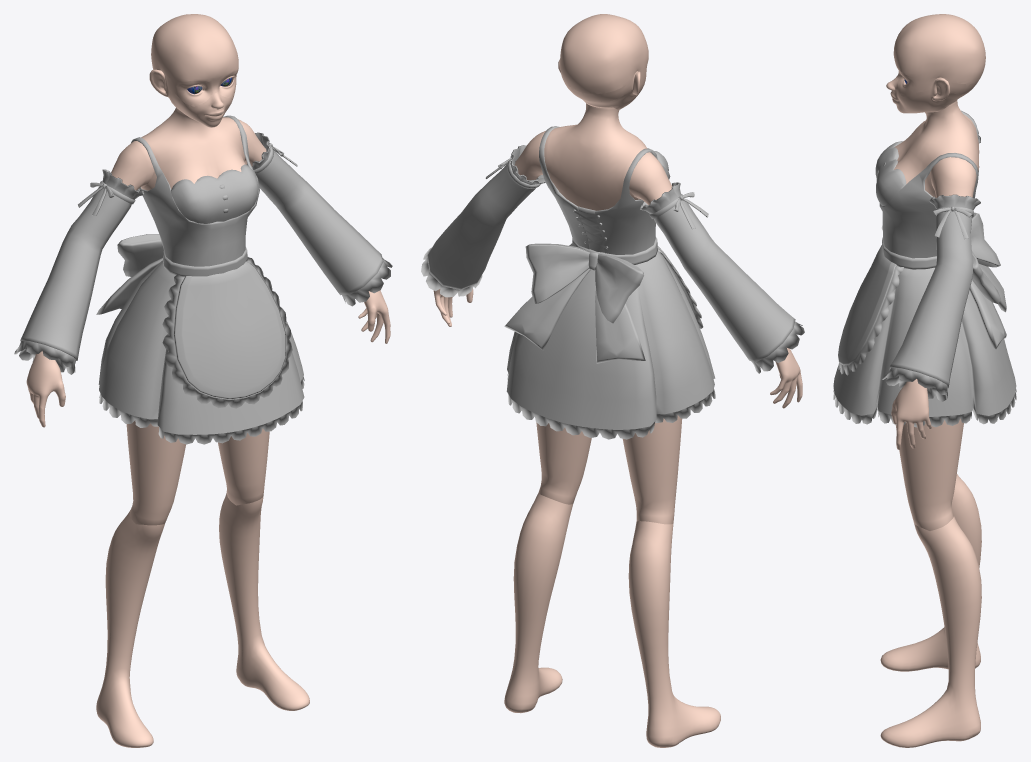
File: Doll_2.fbx
3 renders of one model, left to right at view 1: azimuth 30°, elevation 25°; view 2: azimuth 150°, elevation 25°; view 3: azimuth 270°, elevation 25°, orthographic. The views are drawn at different scales.
Parts seen in each view (by area): view 1: Clothes_60, Female_LegLowerRight, Female_LegLowerLeft, Female_Body, Female_LegUpperRight, Female_HeadD, Female_HeadD_CutTop, Female_LegUpperLeft, Female_HandRight, Female_ArmUpperRight, Female_HeadD_CutMiddle, Female_HeadD_CutBottom (+1 smaller); view 2: Clothes_60, Female_LegLowerRight, Female_LegLowerLeft, Female_Body, Female_LegUpperRight, Female_HeadD, Female_HeadD_CutTop, Female_LegUpperLeft, Female_ArmUpperRight, Female_HandRight, Female_ArmUpperLeft; view 3: Clothes_60, Female_LegLowerLeft, Female_LegUpperLeft, Female_HeadD, Female_Body, Female_LegLowerRight, Female_HeadD_CutTop, Female_HandLeft, Female_ArmUpperLeft, Female_HeadD_CutBottom, Female_HeadD_CutMiddle.
Boxes of the visible parts, <box> form: Clothes_60: <box>14,115,392,444</box>; Female_LegLowerRight: <box>96,510,164,747</box>; Female_LegLowerLeft: <box>219,493,309,710</box>; Female_Body: <box>141,91,245,190</box>; Female_LegUpperRight: <box>126,420,185,525</box>; Female_HeadD: <box>149,14,238,127</box>; Female_HeadD_CutTop: <box>151,14,238,81</box>; Female_LegUpperLeft: <box>218,428,269,505</box>; Female_HandRight: <box>26,351,65,427</box>; Female_ArmUpperRight: <box>111,141,154,190</box>; Female_HeadD_CutMiddle: <box>149,69,238,106</box>; Female_HeadD_CutBottom: <box>153,77,234,127</box>; Clothes_60: <box>421,126,804,439</box>; Female_LegLowerRight: <box>628,519,720,747</box>; Female_LegLowerLeft: <box>504,493,572,713</box>; Female_Body: <box>541,103,647,210</box>; Female_LegUpperRight: <box>622,415,682,524</box>; Female_HeadD: <box>558,14,648,109</box>; Female_HeadD_CutTop: <box>560,14,648,93</box>; Female_LegUpperLeft: <box>536,422,591,504</box>; Female_ArmUpperRight: <box>629,152,672,204</box>; Female_HandRight: <box>770,348,802,408</box>; Female_ArmUpperLeft: <box>514,131,545,180</box>; Clothes_60: <box>833,110,1016,427</box>; Female_LegLowerLeft: <box>880,516,981,747</box>; Female_LegUpperLeft: <box>895,418,963,530</box>; Female_HeadD: <box>886,14,985,113</box>; Female_Body: <box>894,100,979,197</box>; Female_LegLowerRight: <box>880,474,981,671</box>; Female_HeadD_CutTop: <box>893,14,985,83</box>; Female_HandLeft: <box>891,379,931,449</box>; Female_ArmUpperLeft: <box>930,157,976,197</box>; Female_HeadD_CutBottom: <box>886,76,964,113</box>; Female_HeadD_CutMiddle: <box>897,70,977,96</box>.
Size of the model in its own units: 9.46 by 17 by 4.12.
